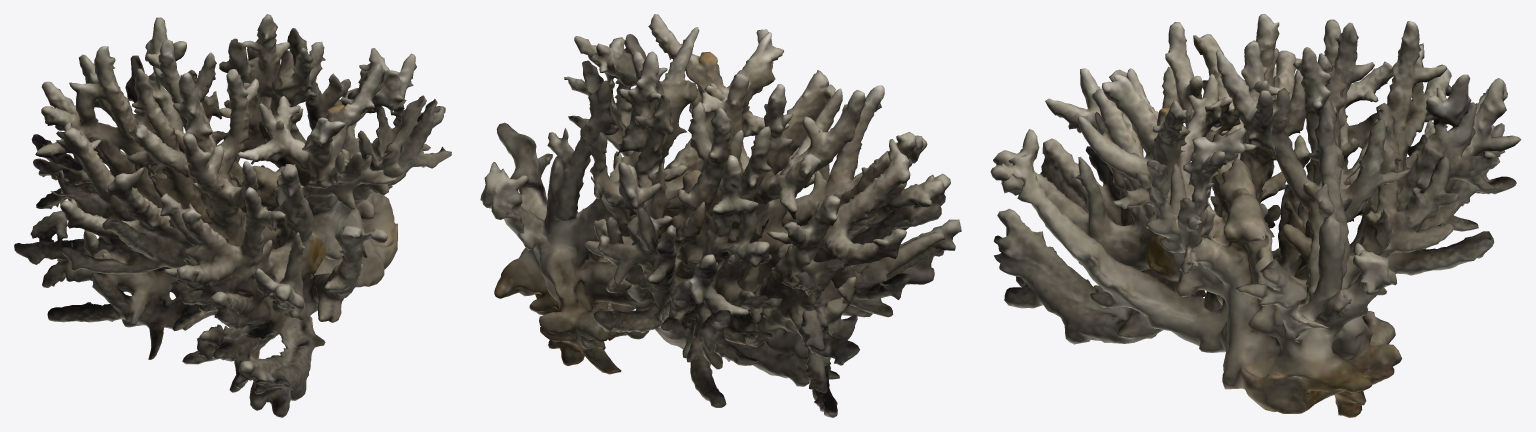
Rendered from acropora_formosa.glb.
The picture shows the model from 3 angles, left to right: view 1: azimuth 30°, elevation 25°; view 2: azimuth 150°, elevation 25°; view 3: azimuth 270°, elevation 25°; orthographic projection. The views are drawn at different scales.
Size of the model in its own units: 0.1874 by 0.1406 by 0.1944.
Materials: 1 (1 with a texture image).
